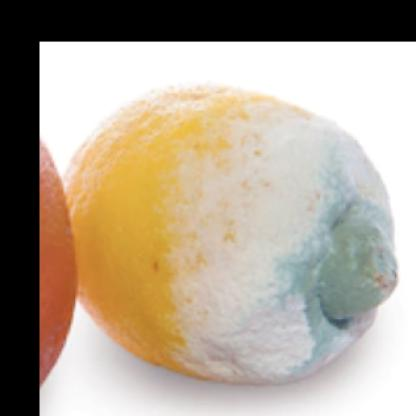rotten: (67, 84, 397, 388)
